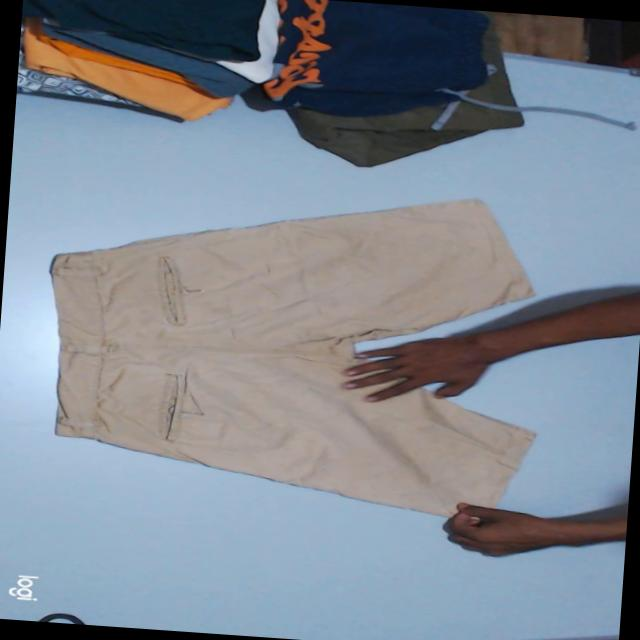new-garment: (51, 200, 533, 517)
